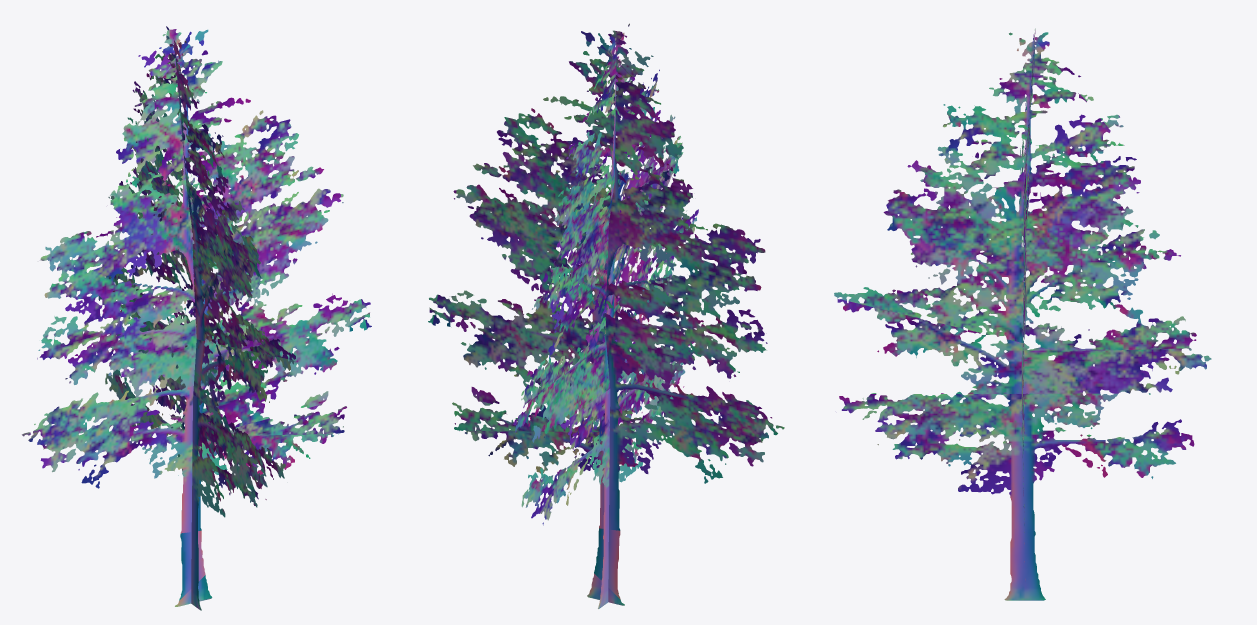
The model's file is beech_tree_03_cross.FBX.
3 renders of one model, left to right at view 1: azimuth 30°, elevation 25°; view 2: azimuth 150°, elevation 25°; view 3: azimuth 270°, elevation 25°, orthographic. The views are drawn at different scales.
Visible parts, largest first — view 1: beech_tree_03_cross; view 2: beech_tree_03_cross; view 3: beech_tree_03_cross.
Boxes of the visible parts, box(x1,y1,x2,y2) form: beech_tree_03_cross: box(22, 26, 371, 610); beech_tree_03_cross: box(428, 23, 784, 608); beech_tree_03_cross: box(834, 28, 1211, 600).
Size of the model in its own units: 10240 by 15267 by 10188.
